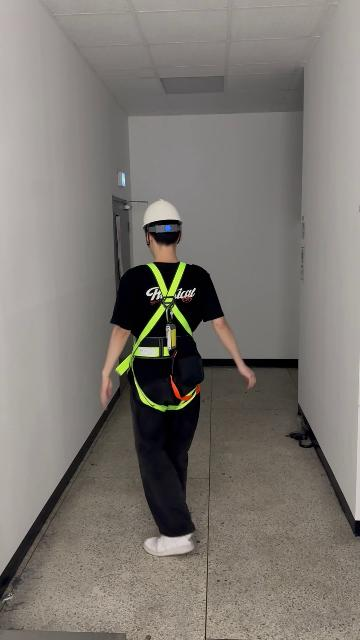helmet_worn: (141, 197, 183, 228)
shoe_not_worn: (143, 532, 197, 556)
vest_worn: (117, 265, 202, 409)
